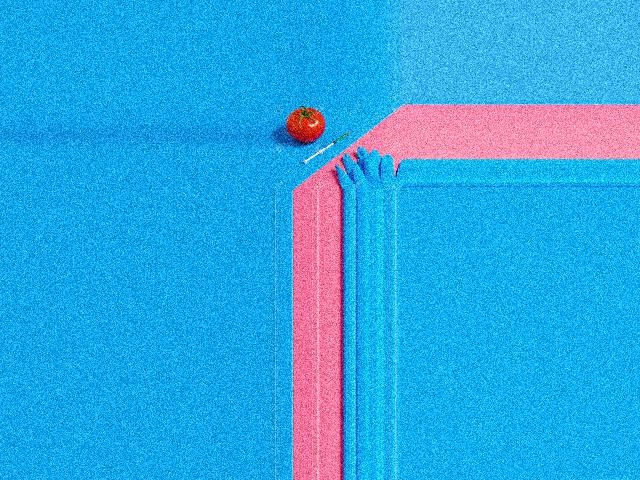tomato: (287, 108, 325, 143)
